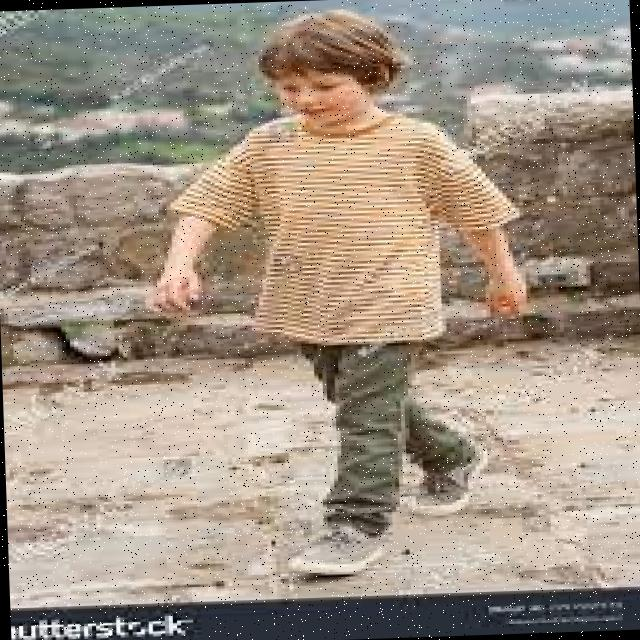Person: (132, 8, 538, 580)
